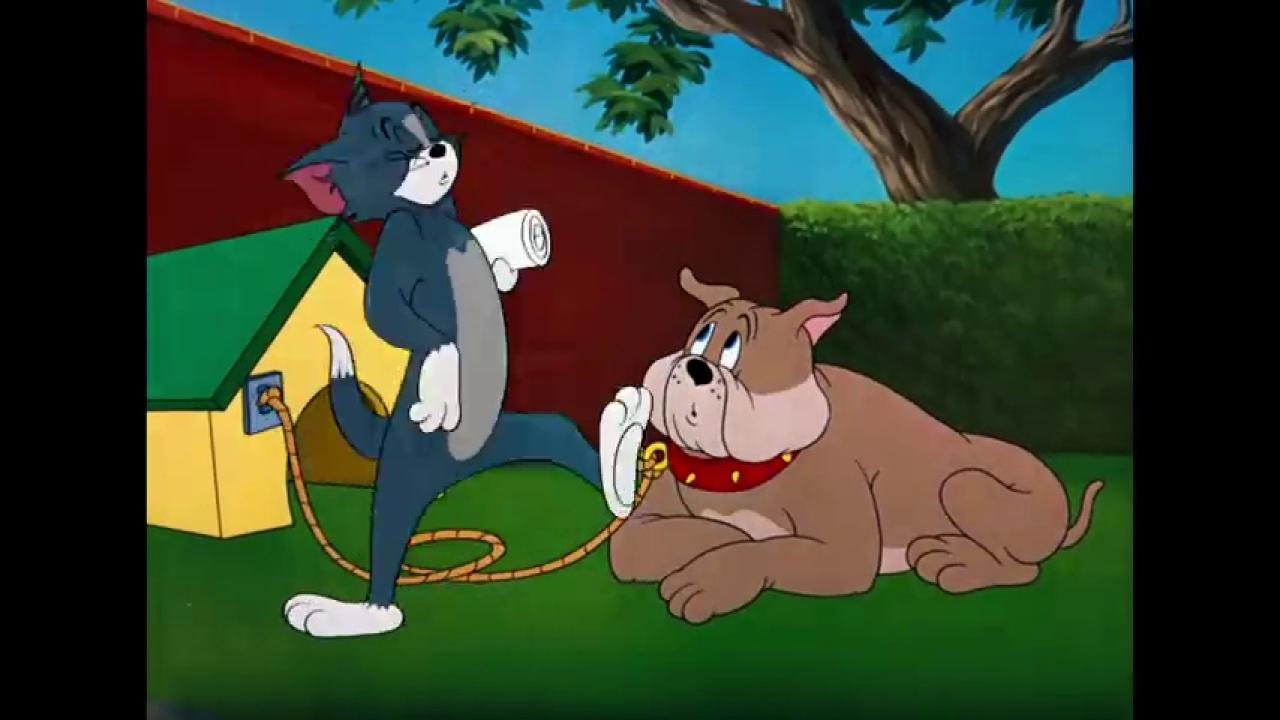Tom: (272, 61, 657, 640)
